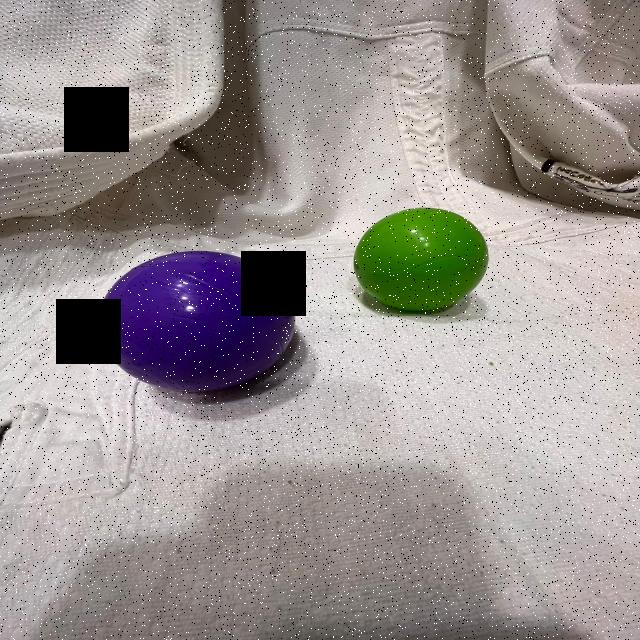ball: (97, 249, 298, 397), (351, 204, 492, 312)
